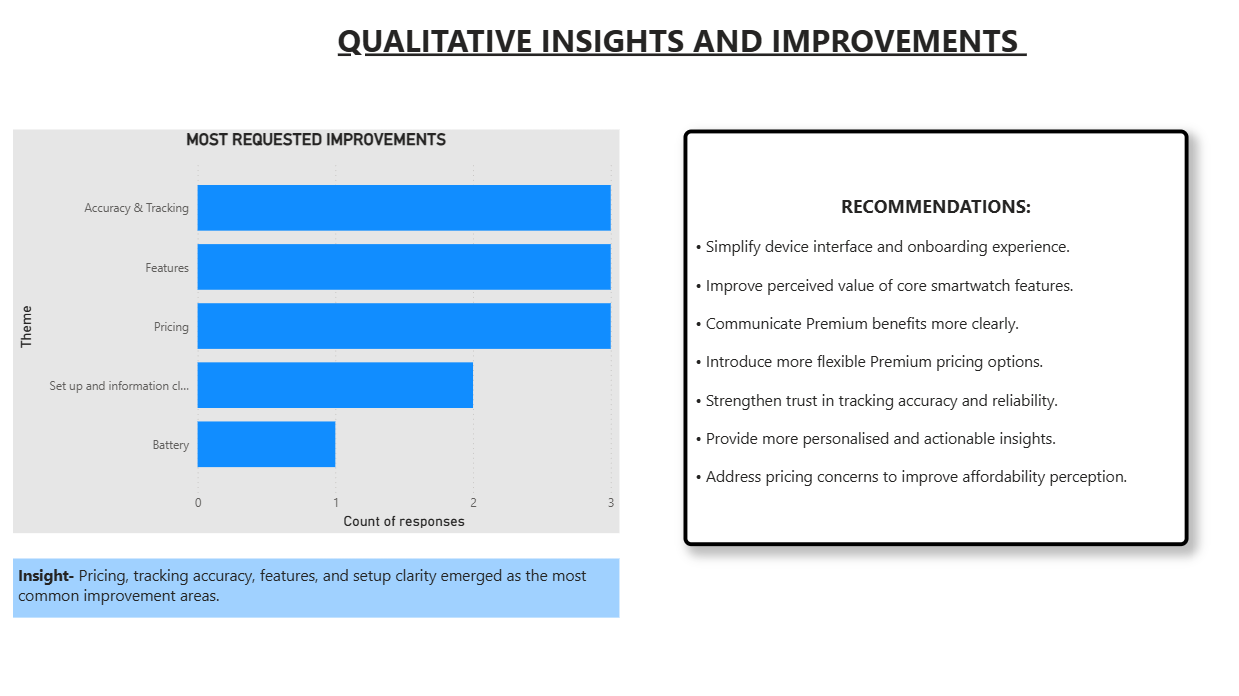

The page's visual inventory and layout, read from the dashboard file:
{"tool":"powerbi","page":{"name":"Page 4","canvas":[1280,720],"ordinal":3},"visuals":[{"type":"clusteredBarChart","title":"MOST REQUESTED IMPROVEMENTS","fields":{"Category":["Theme table.Theme"],"Y":["Sum(Theme table.Count)"]},"box":[18.9,134.2,621.7,413.9],"z":0},{"type":"textbox","box":[345.8,13.2,721.9,52.9],"z":1},{"type":"textbox","box":[18.9,574.5,621.7,60.5],"z":2},{"type":"textbox","box":[706.8,134.2,517.8,427.1],"z":3}]}

Visuals, with their boxes in screenshot pixels (x1, y1, x2, y2), scaled from the page's 1280x720 canvas onto the 1239x696 screenshot:
"MOST REQUESTED IMPROVEMENTS" clusteredBarChart: left=18, top=130, right=620, bottom=530
textbox: left=335, top=13, right=1034, bottom=64
textbox: left=18, top=555, right=620, bottom=614
textbox: left=684, top=130, right=1185, bottom=543
